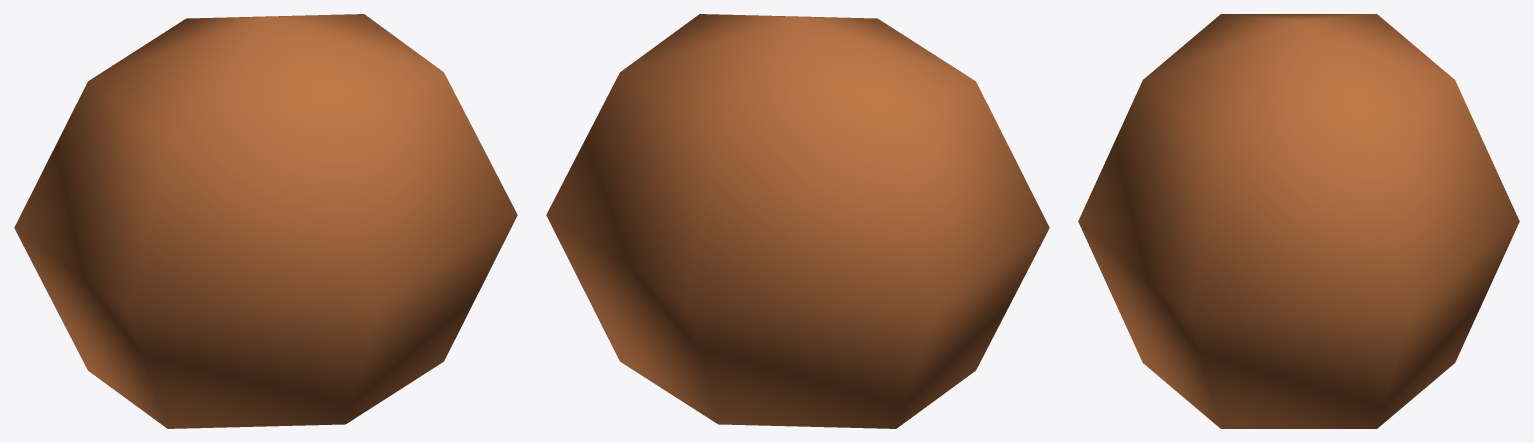
File: ember_millet.glb
3 renders of one model, left to right at view 1: azimuth 30°, elevation 25°; view 2: azimuth 150°, elevation 25°; view 3: azimuth 270°, elevation 25°, orthographic. The views are drawn at different scales.
Parts seen in each view (by area): view 1: ember_millet; view 2: ember_millet; view 3: ember_millet.
Boxes of the visible parts, <box> form: ember_millet: <box>14,14,517,428</box>; ember_millet: <box>546,14,1049,428</box>; ember_millet: <box>1078,14,1519,428</box>.
Bounding box in the file's own units: 0.002 × 0.002 × 0.002.
